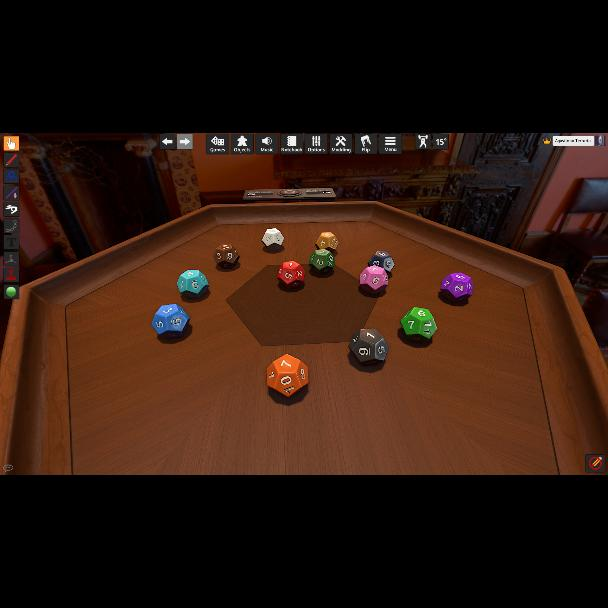d12: (266, 354, 309, 396), (350, 328, 386, 366), (152, 306, 190, 340), (401, 308, 432, 342), (441, 273, 473, 303), (177, 269, 209, 299), (276, 260, 304, 288), (359, 266, 387, 294), (309, 249, 335, 273), (367, 250, 393, 274), (215, 244, 238, 270), (316, 232, 338, 252), (263, 228, 285, 248)
